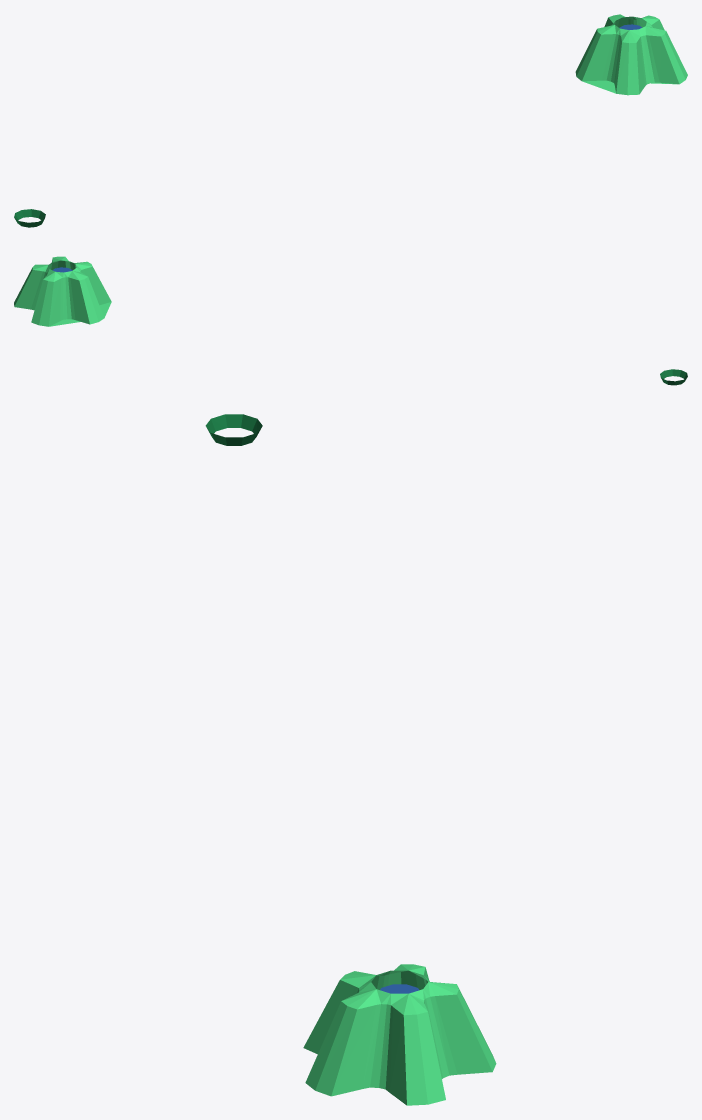
Rendered from Leg.FBX.
3 views of the same model, one above another, from view 1: azimuth 30°, elevation 25°; view 2: azimuth 150°, elevation 25°; view 3: azimuth 270°, elevation 25° (orthographic). The views are drawn at different scales.
Visible parts, largest first — view 1: VIFS001, VIFS002; view 2: VIFS001, VIFS002; view 3: VIFS001, VIFS002.
Boxes of the visible parts, x1,y1,x2,y2 form: VIFS001: (575,14,687,95); VIFS002: (14,209,45,227); VIFS001: (14,256,111,326); VIFS002: (660,369,687,385); VIFS001: (303,964,496,1105); VIFS002: (205,414,262,445).
Size of the model in its own units: 3.5 by 0.22 by 0.7062.
